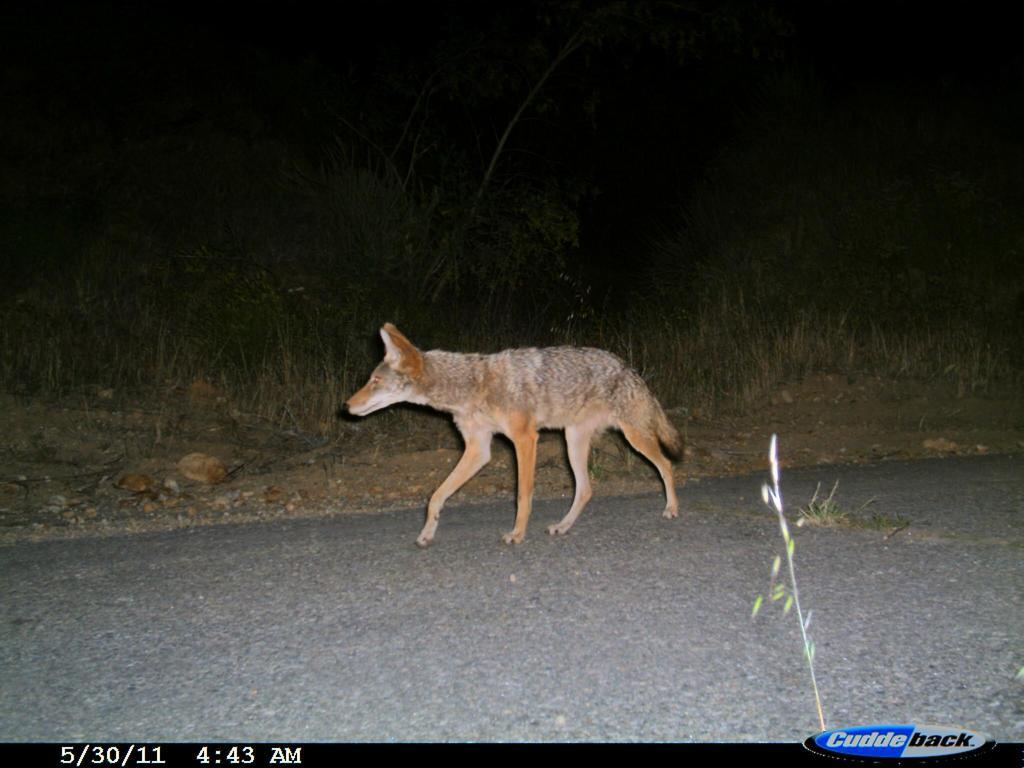coyote: (345, 315, 698, 564)
